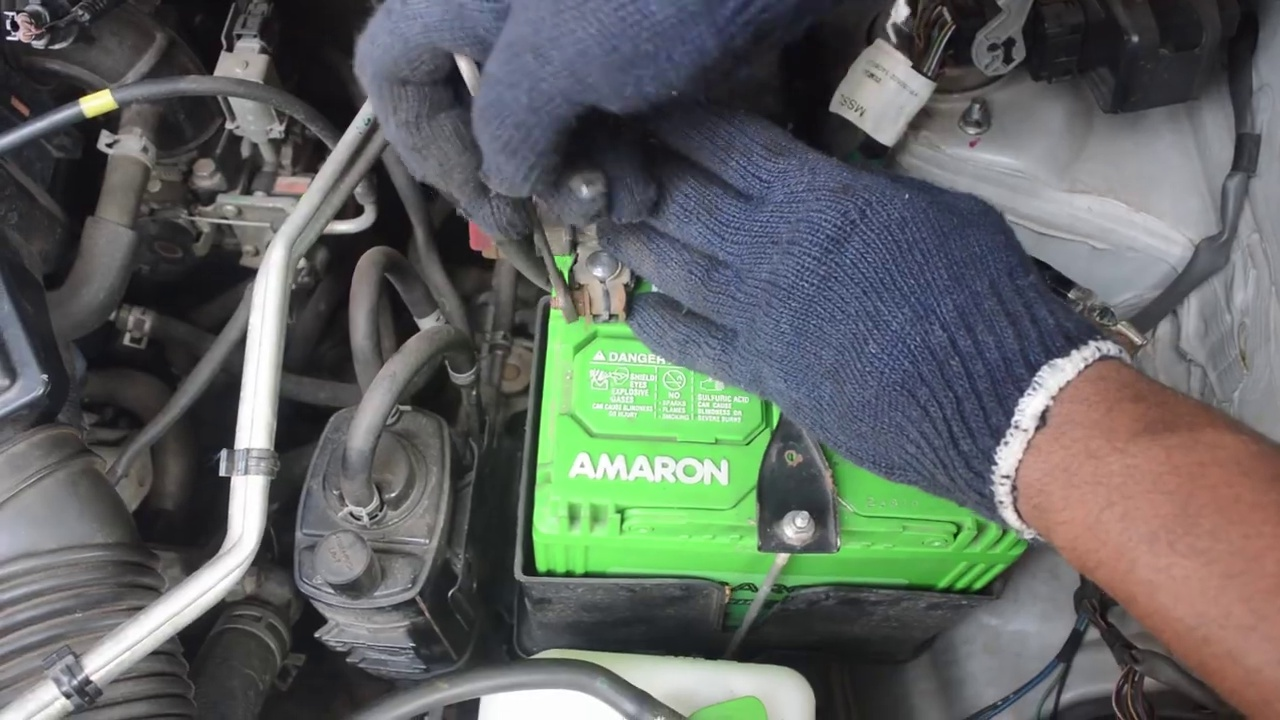battery: (526, 225, 1035, 569)
